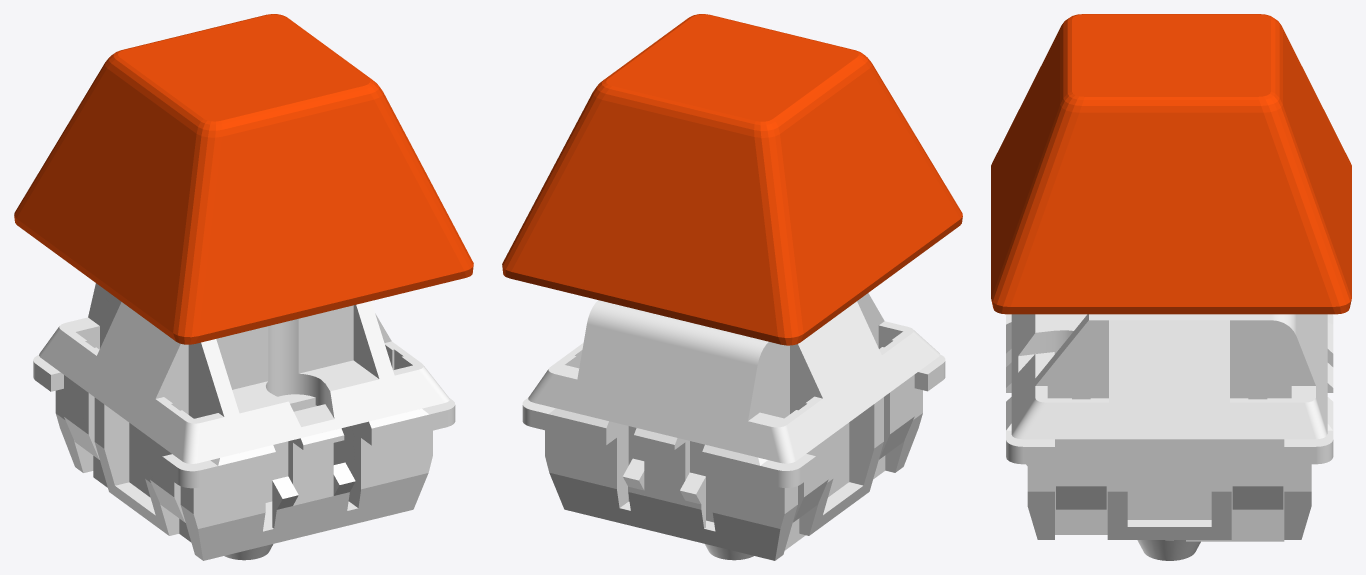
The model's file is orange.glb.
The picture shows the model from 3 angles, left to right: view 1: azimuth 30°, elevation 25°; view 2: azimuth 150°, elevation 25°; view 3: azimuth 270°, elevation 25°; orthographic projection. The views are drawn at different scales.
Parts seen in each view (by area): view 1: Cube, Solid 154, Solid 87; view 2: Cube, Solid 154, Solid 87; view 3: Cube, Solid 154, Solid 87.
Boxes of the visible parts, x1,y1,x2,y2 form: Cube: (14, 14, 473, 344); Solid 154: (39, 283, 449, 522); Solid 87: (33, 355, 455, 560); Cube: (502, 14, 962, 345); Solid 154: (528, 293, 939, 522); Solid 87: (522, 354, 945, 560); Cube: (991, 14, 1351, 314); Solid 154: (1011, 314, 1327, 509); Solid 87: (1006, 314, 1333, 560).
Size of the model in its own units: 1.69 by 2.6 by 1.72.
